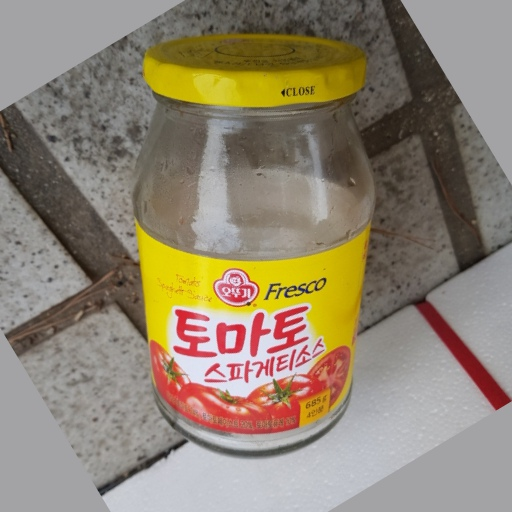Glass_5: (133, 33, 378, 451)
